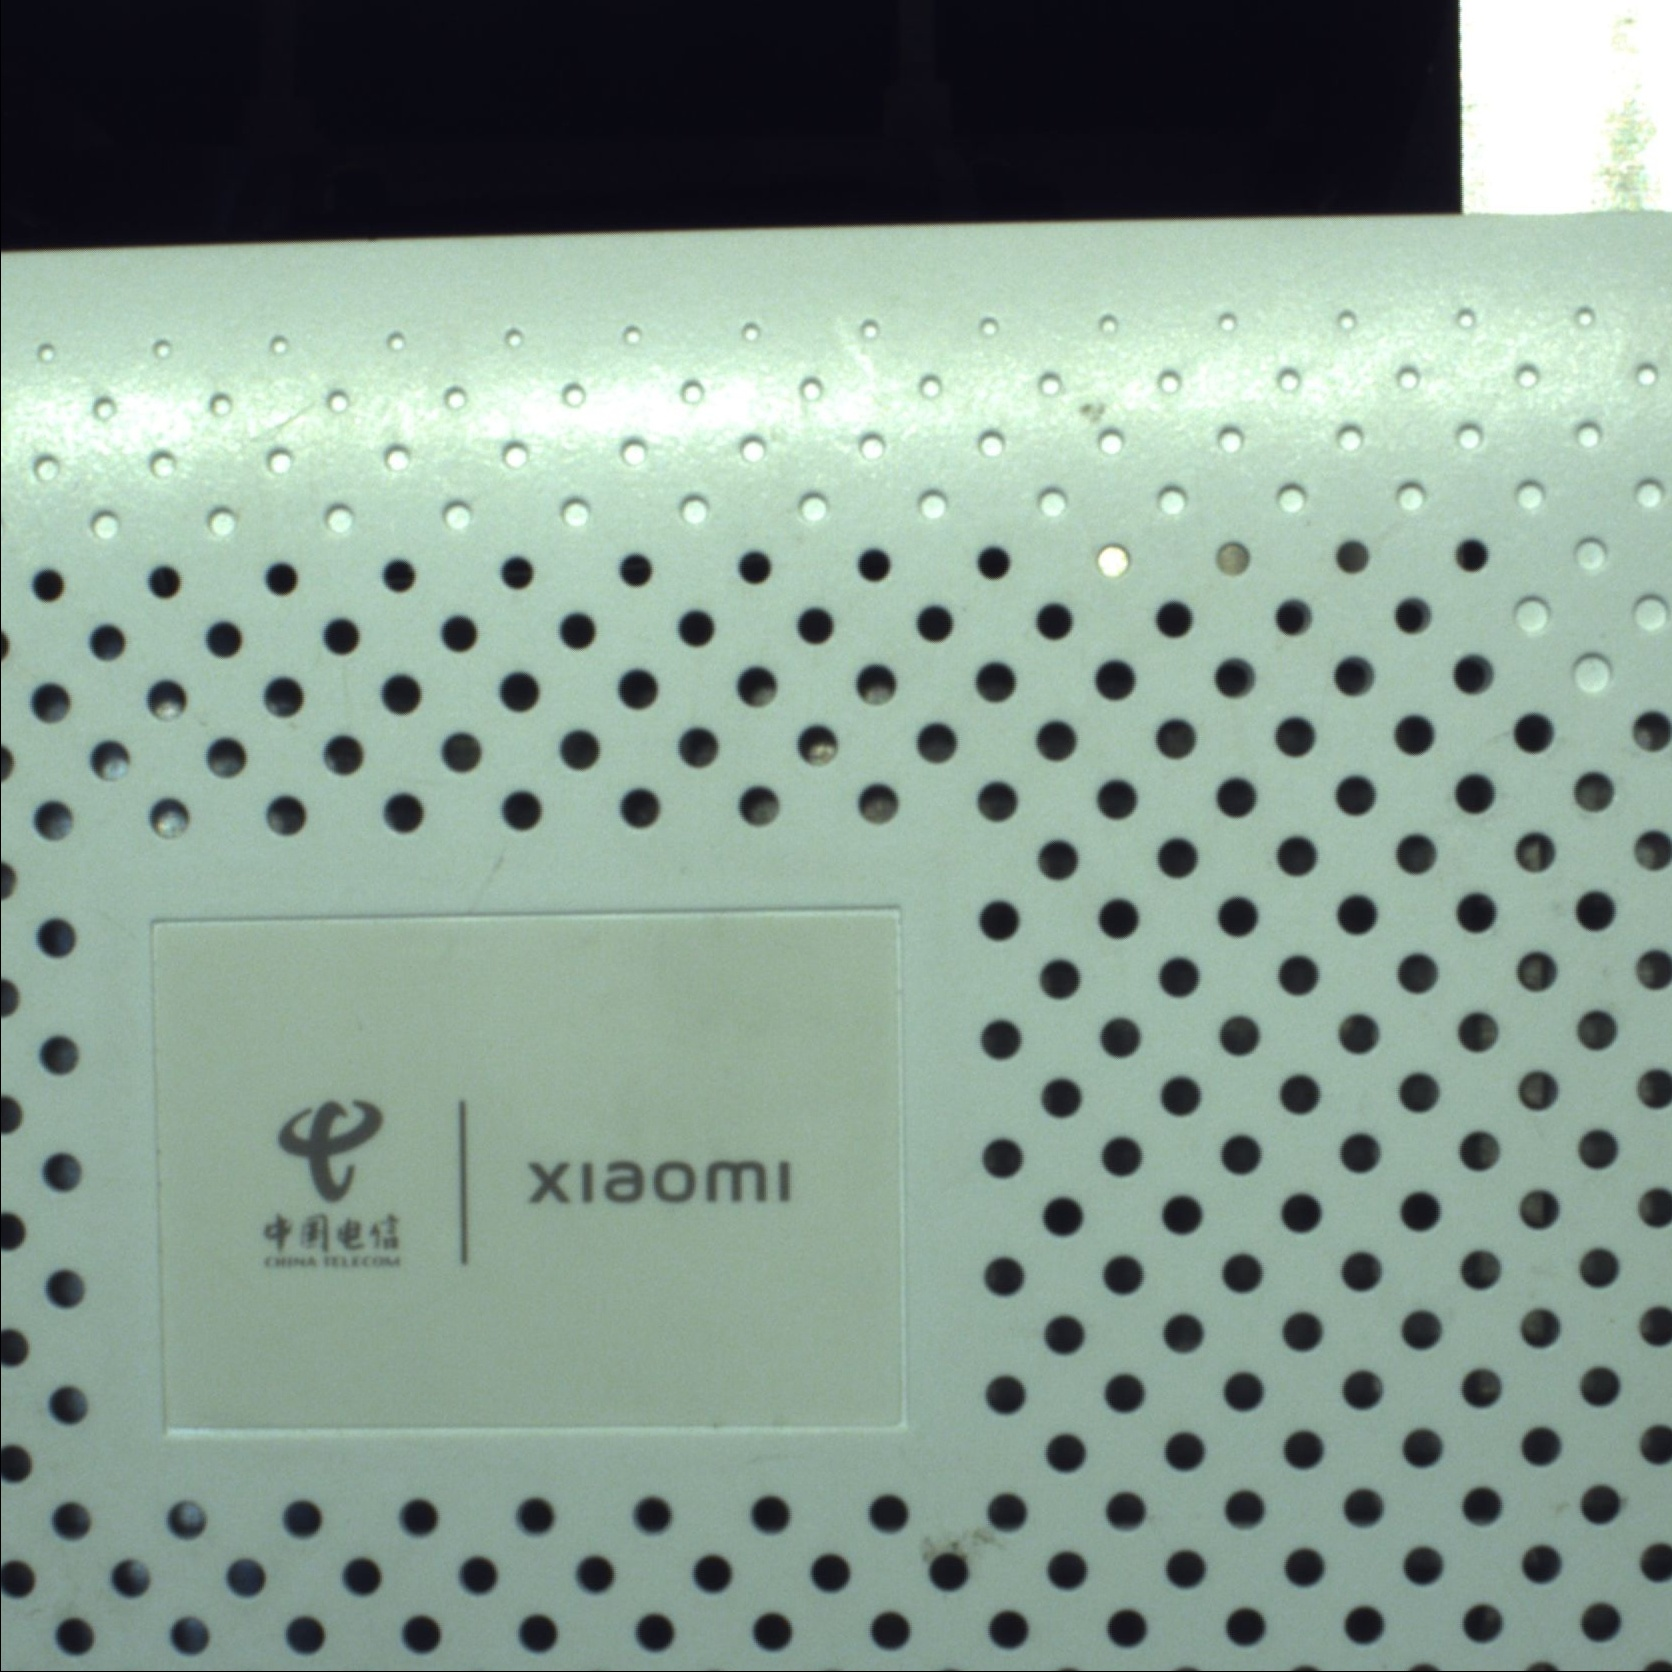MAA_Telecom: (247, 1095, 802, 1275)
